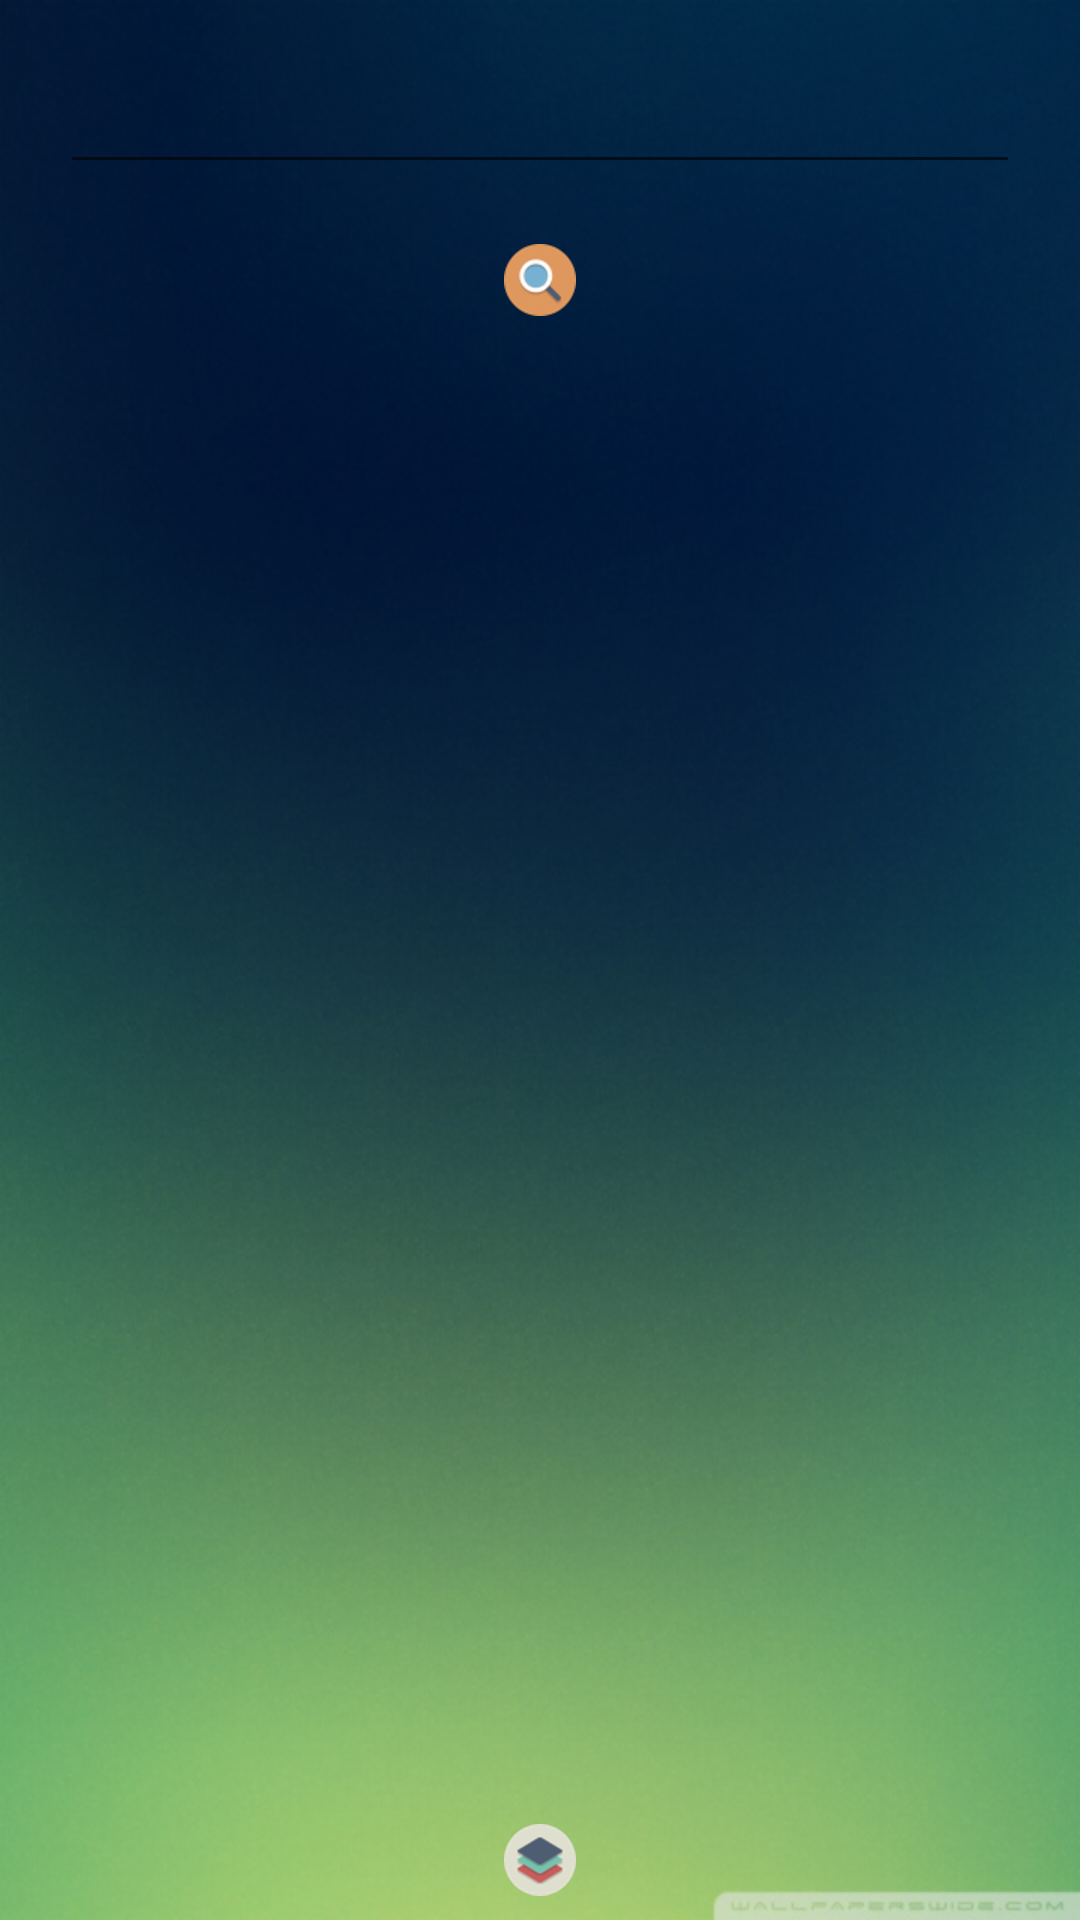

Icon bounding boxes for this 1080 × 1920 phone screenshot, format detection(x1, y1, x2, y2):
search: detection(504, 244, 576, 316)
